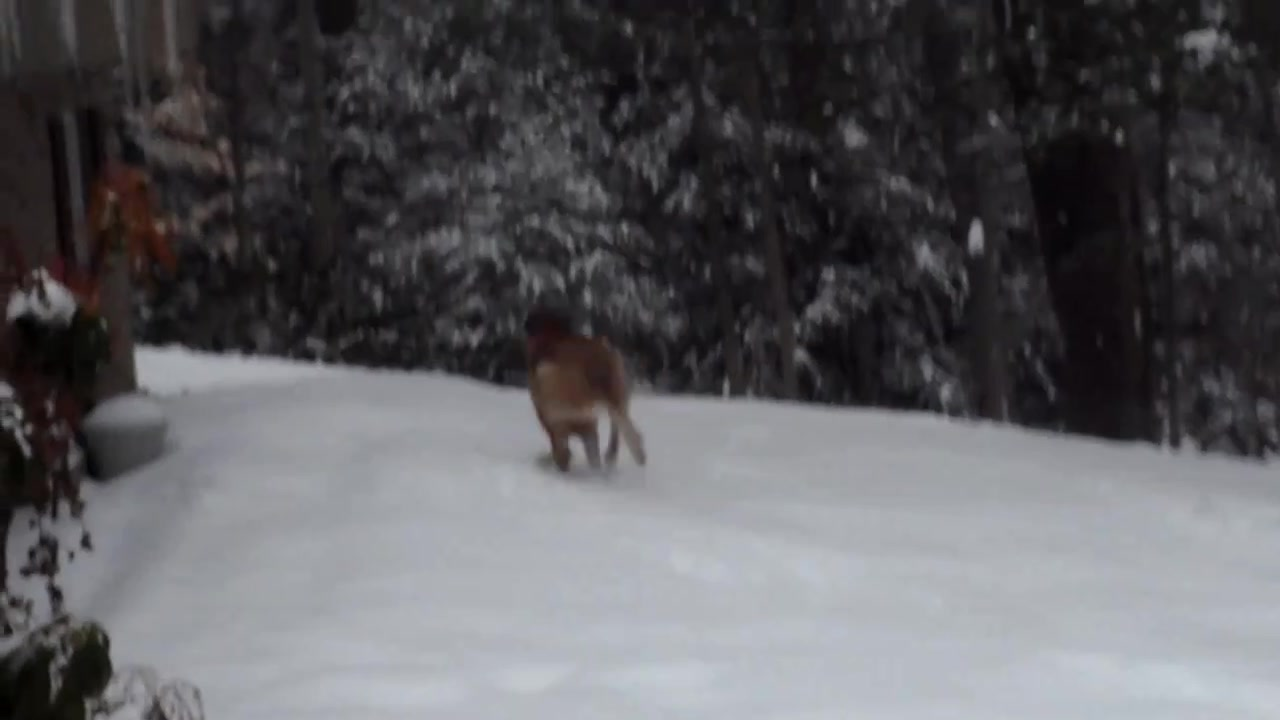dog: (521, 299, 652, 482)
